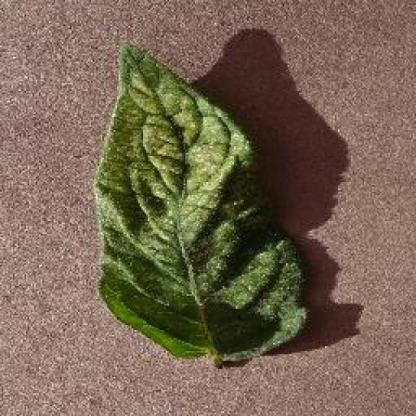Tomato_Spider_Mites: (96, 44, 308, 354)
